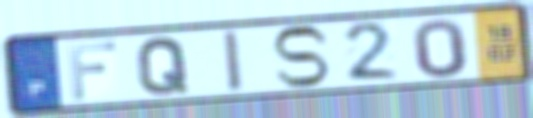0: (409, 15, 472, 80)
2: (341, 19, 401, 87)
F: (64, 39, 120, 102)
I: (220, 28, 248, 94)
Q: (135, 35, 192, 97)
S: (268, 24, 332, 90)
